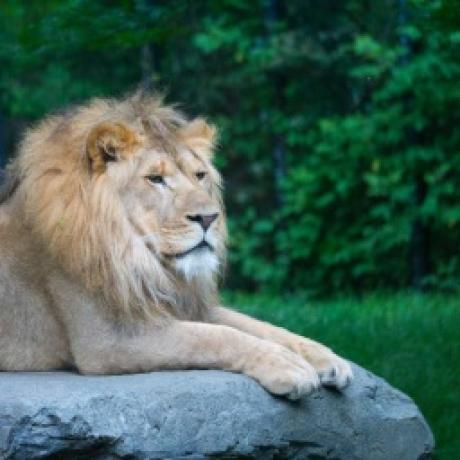Lion: (0, 88, 352, 399)
